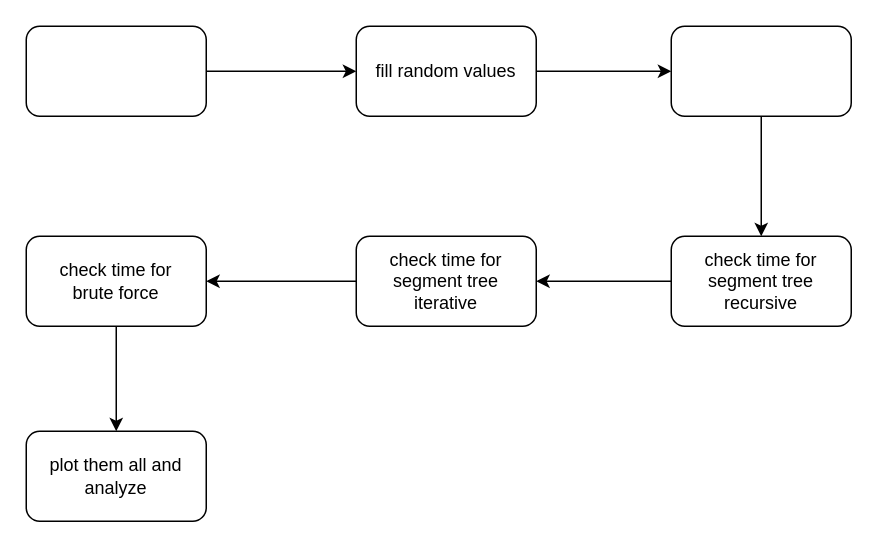
The diagram is 878 pixels wide and 548 high, and some of its shapes have lost their labels. Each missing label, with the box of its shape:
allocate space for array: (25, 25, 206, 116)
generate random range queries: (670, 25, 851, 116)
